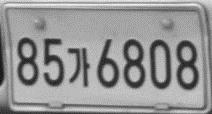0: (149, 39, 172, 89)
5: (43, 37, 65, 86)
6: (95, 37, 119, 88)
8: (174, 39, 200, 90), (122, 38, 146, 87), (16, 36, 38, 86)
가: (66, 46, 91, 88)
